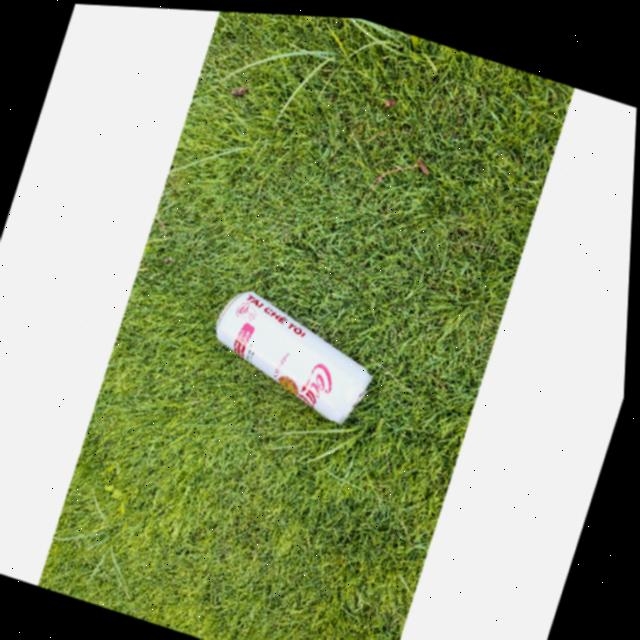Coca Cola Plus: (195, 272, 394, 440)
